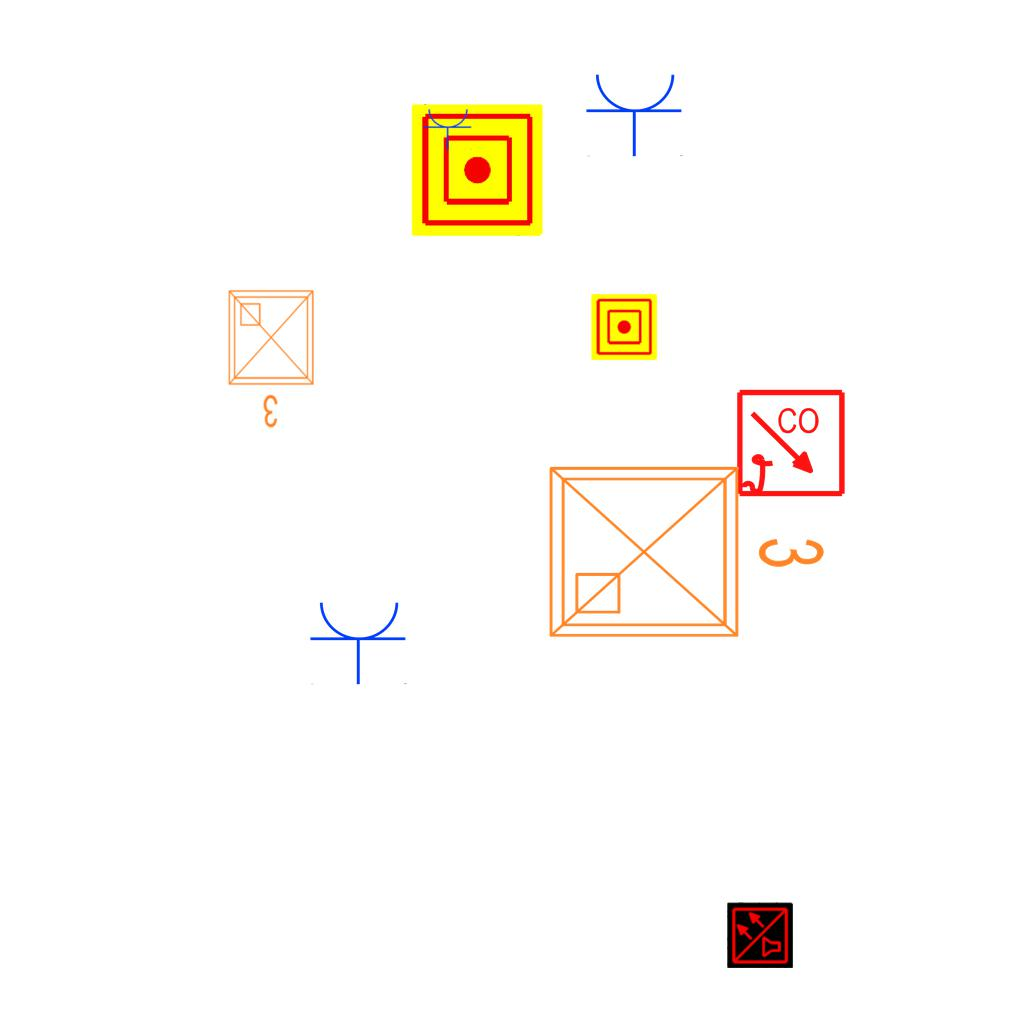Einbaudownlights_LED_Konferenzraeume: (535, 444, 835, 652), (221, 283, 325, 433)
NAM-Nichtautomatischer_Melder: (411, 104, 543, 236), (591, 294, 657, 360)
OKW_Multisensormelder_(Kombination_optischer_Rauch-Kahlenmonoxid_Waerme-Melder): (727, 902, 793, 968)
ROA_Rauchmelder_optisch_mit_Signalgeber_(Sockelsirene): (735, 388, 848, 501)
Schukosteckdose_einfach: (309, 598, 409, 685), (585, 70, 685, 157), (423, 107, 473, 150)
